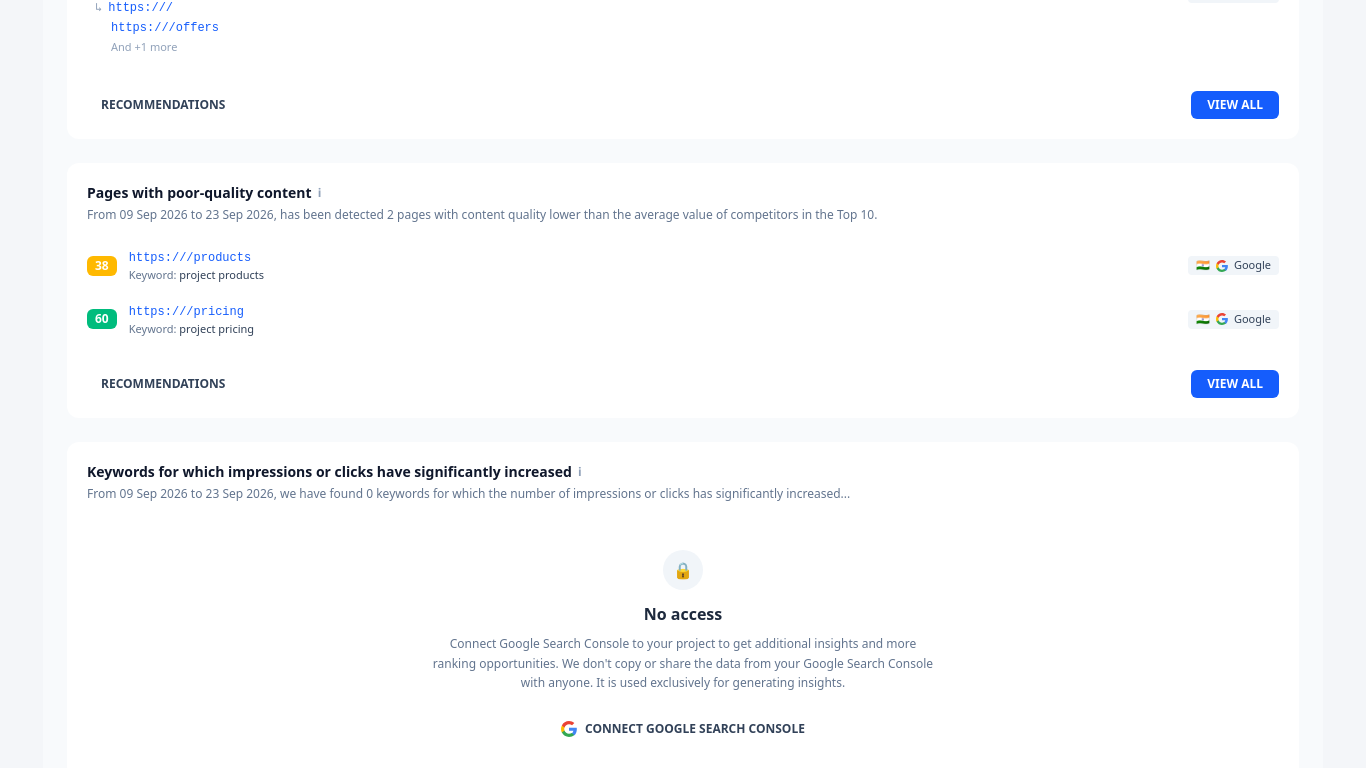
ProjectInsightsView Component › opens and closes the Poor-Quality Content recommendations modal
This screenshot has width=1366, height=768.
(page scrolled)
Click the button "RECOMMENDATIONS" below "project pricing".
click(163, 384)  # box [87, 370, 239, 398]
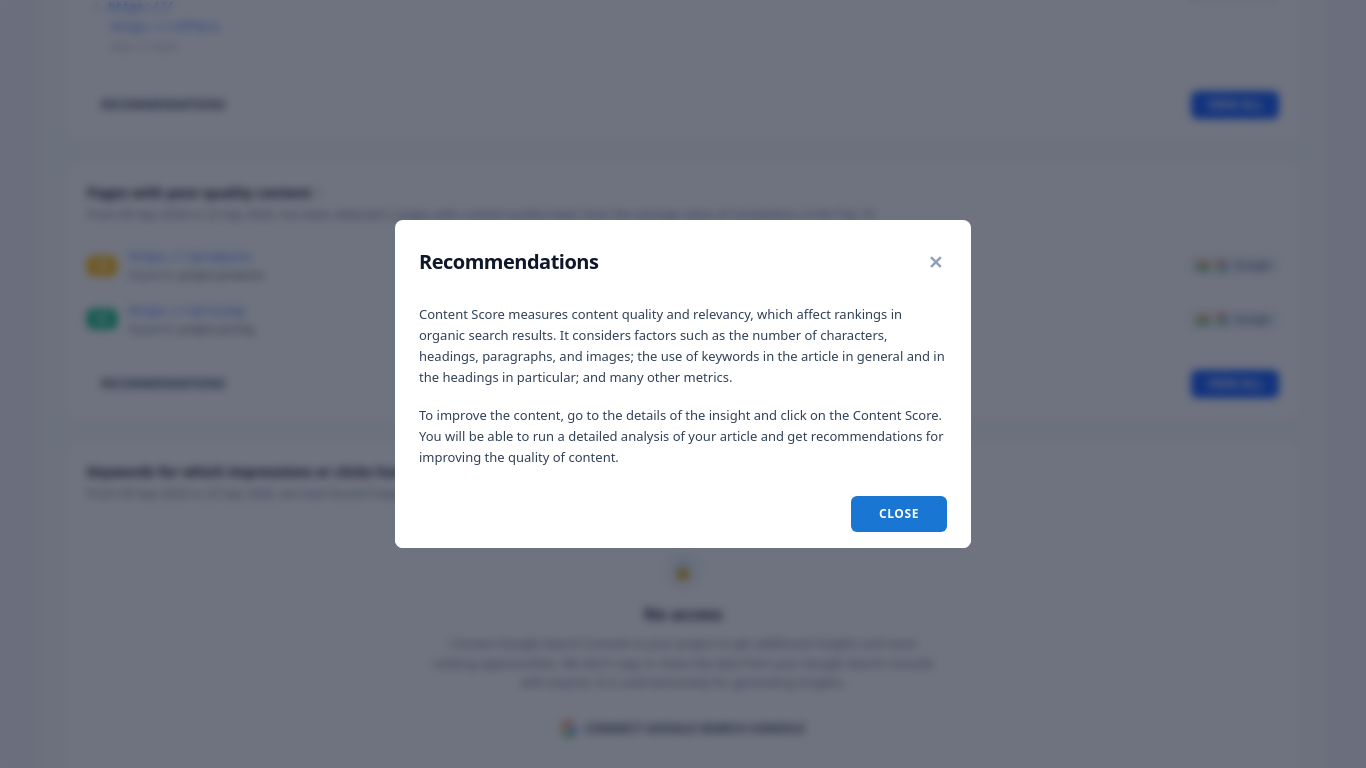
Now the dialog is shown
Now the text "Content Score measures content quality and relevancy" is shown, box [419, 305, 945, 386]
Click the button "CLOSE".
click(899, 514)  # box [851, 496, 947, 532]
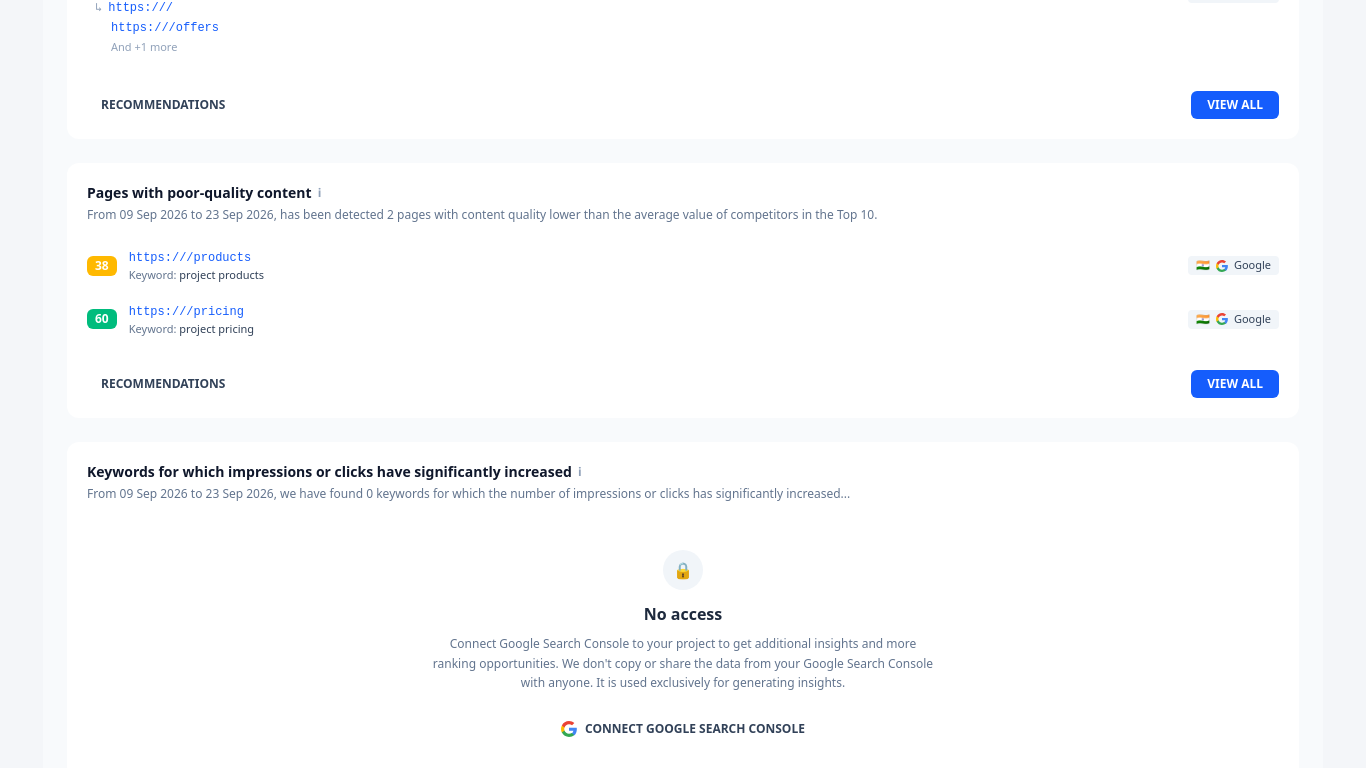
Now the dialog is gone
